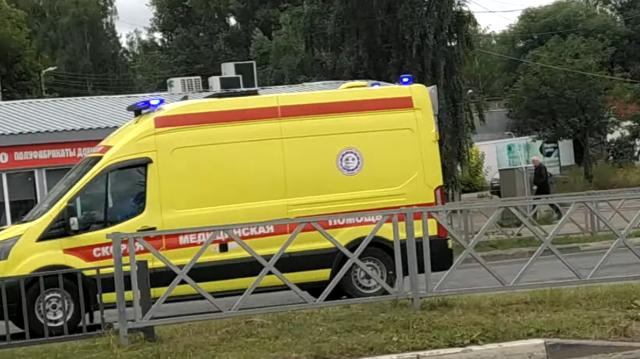intensive care unit: (2, 75, 455, 339)
